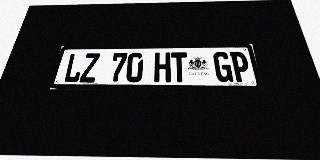0: (125, 53, 144, 82)
7: (108, 53, 128, 82)
G: (213, 52, 234, 82)
H: (154, 52, 171, 82)
L: (63, 53, 85, 83)
P: (229, 52, 252, 82)
T: (171, 52, 188, 82)
Z: (79, 53, 100, 82)
